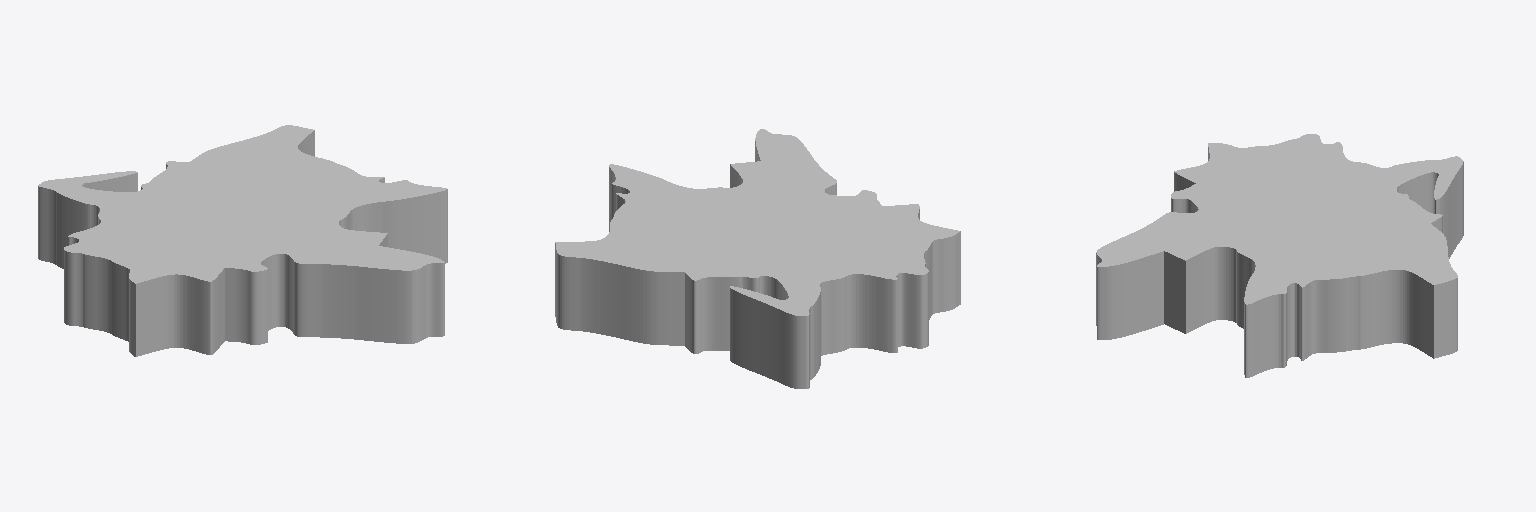
File: Europe_06.obj
3 renders of one model, left to right at view 1: azimuth 30°, elevation 25°; view 2: azimuth 150°, elevation 25°; view 3: azimuth 270°, elevation 25°, orthographic.
Visible parts, largest first — view 1: Europe_06_path4238; view 2: Europe_06_path4238; view 3: Europe_06_path4238.
Part boxes in pixels (bbox=[...]): Europe_06_path4238: bbox=[38, 125, 447, 356]; Europe_06_path4238: bbox=[555, 129, 960, 388]; Europe_06_path4238: bbox=[1096, 134, 1463, 377].
Bounding box in the file's own units: 0.499 × 0.1 × 0.4532.